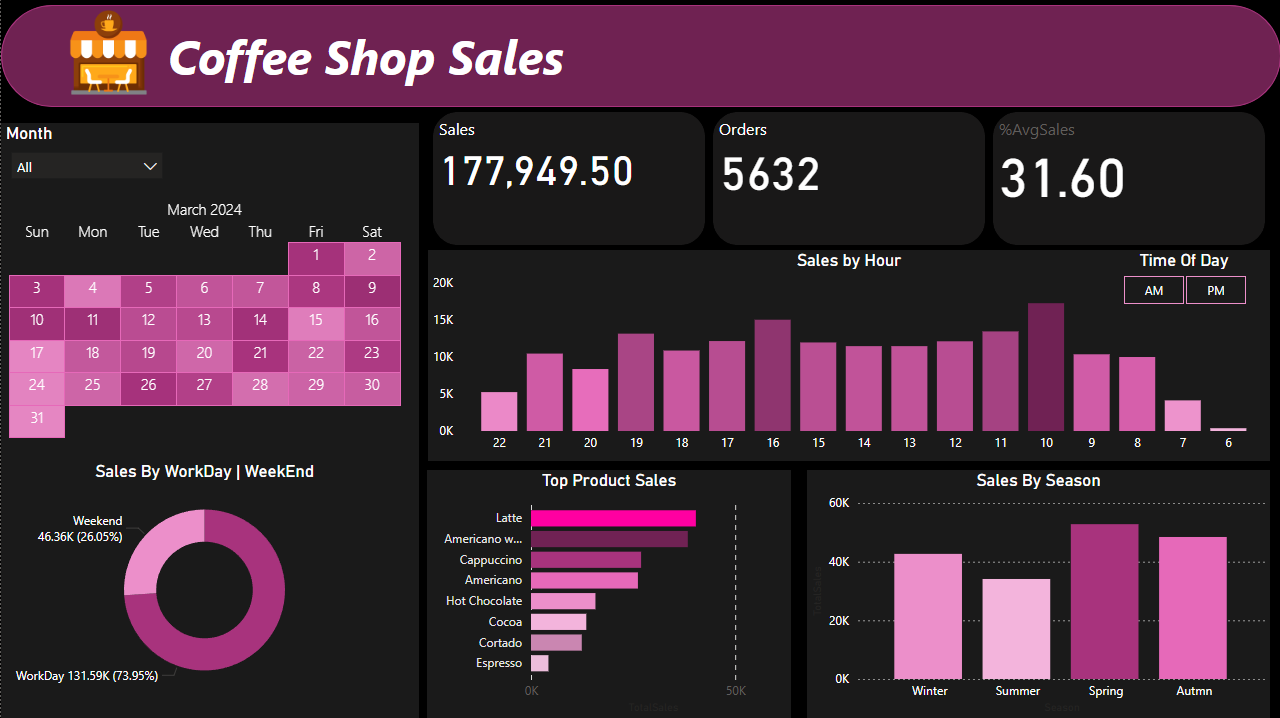

Layout of this report page (visuals, bound fields, positions):
{"tool":"powerbi","page":{"name":"Page 1","canvas":[1280,720],"ordinal":0},"visuals":[{"type":"shape","box":[0,7.1,1280,101.8],"z":0},{"type":"textbox","box":[162.3,20.2,433.4,104.8],"z":1000},{"type":"shape","box":[0,125,418.3,594.6],"z":2000},{"type":"cardVisual","fields":{"Data":["FactSales.TotalSales","FactSales.TotalOrders","FactSales.%AvgSales"]},"box":[427.3,108.9,841.6,143.1],"z":3000},{"type":"slicer","title":"Month","fields":{"Values":["FactSales.MonthYear"]},"box":[0,125,172.3,61.5],"z":4000},{"type":"clusteredBarChart","title":"Top Product Sales","fields":{"Category":["DimProduct.ProductName"],"Y":["FactSales.TotalSales"]},"box":[426.3,471.7,363.8,247.9],"z":5000},{"type":"donutChart","title":"Sales By WorkDay | WeekEnd","fields":{"Y":["FactSales.TotalSales"],"Category":["DimDate.WeekendWorkingDay"]},"box":[0,462.6,407.2,239.9],"z":6000},{"type":"bciCalendarCC0FA2BFE4B54EE1ACCFE383B9B1DE61","fields":{"category":["DimDate.Date"],"measure":["FactSales.TotalSales"]},"box":[0,194.5,407.2,255],"z":7000},{"type":"clusteredColumnChart","title":"Sales By Season","fields":{"Category":["DimDate.Season"],"Y":["FactSales.TotalSales"]},"box":[806.3,471.7,462.6,247.9],"z":8000},{"type":"columnChart","title":"Sales by Hour","fields":{"Y":["FactSales.TotalSales"],"Category":["FactSales.Hour"]},"box":[427.3,252,841.6,210.6],"z":9000},{"type":"slicer","title":"Time Of Day","fields":{"Values":["FactSales.TimeOfDay"]},"box":[1096.6,252,172.3,61.5],"z":10000},{"type":"image","box":[53.4,0,108.9,108.9],"z":12000}]}

Visuals, with their boxes in screenshot pixels (x1, y1, x2, y2), scaled from the page's 1280x720 canvas onto the 1280x718 screenshot:
shape: [left=0, top=7, right=1279, bottom=109]
textbox: [left=162, top=20, right=596, bottom=125]
shape: [left=0, top=125, right=418, bottom=717]
cardVisual - FactSales.TotalSales x FactSales.TotalOrders: [left=427, top=109, right=1269, bottom=251]
"Month" slicer: [left=0, top=125, right=172, bottom=186]
"Top Product Sales" clusteredBarChart: [left=426, top=470, right=790, bottom=717]
"Sales By WorkDay | WeekEnd" donutChart: [left=0, top=461, right=407, bottom=701]
bciCalendarCC0FA2BFE4B54EE1ACCFE383B9B1DE61 - DimDate.Date x FactSales.TotalSales: [left=0, top=194, right=407, bottom=448]
"Sales By Season" clusteredColumnChart: [left=806, top=470, right=1269, bottom=717]
"Sales by Hour" columnChart: [left=427, top=251, right=1269, bottom=461]
"Time Of Day" slicer: [left=1097, top=251, right=1269, bottom=313]
image: [left=53, top=0, right=162, bottom=109]
